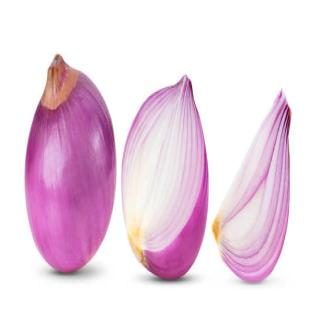Bawang Merah: (22, 50, 120, 276), (118, 70, 214, 286)
